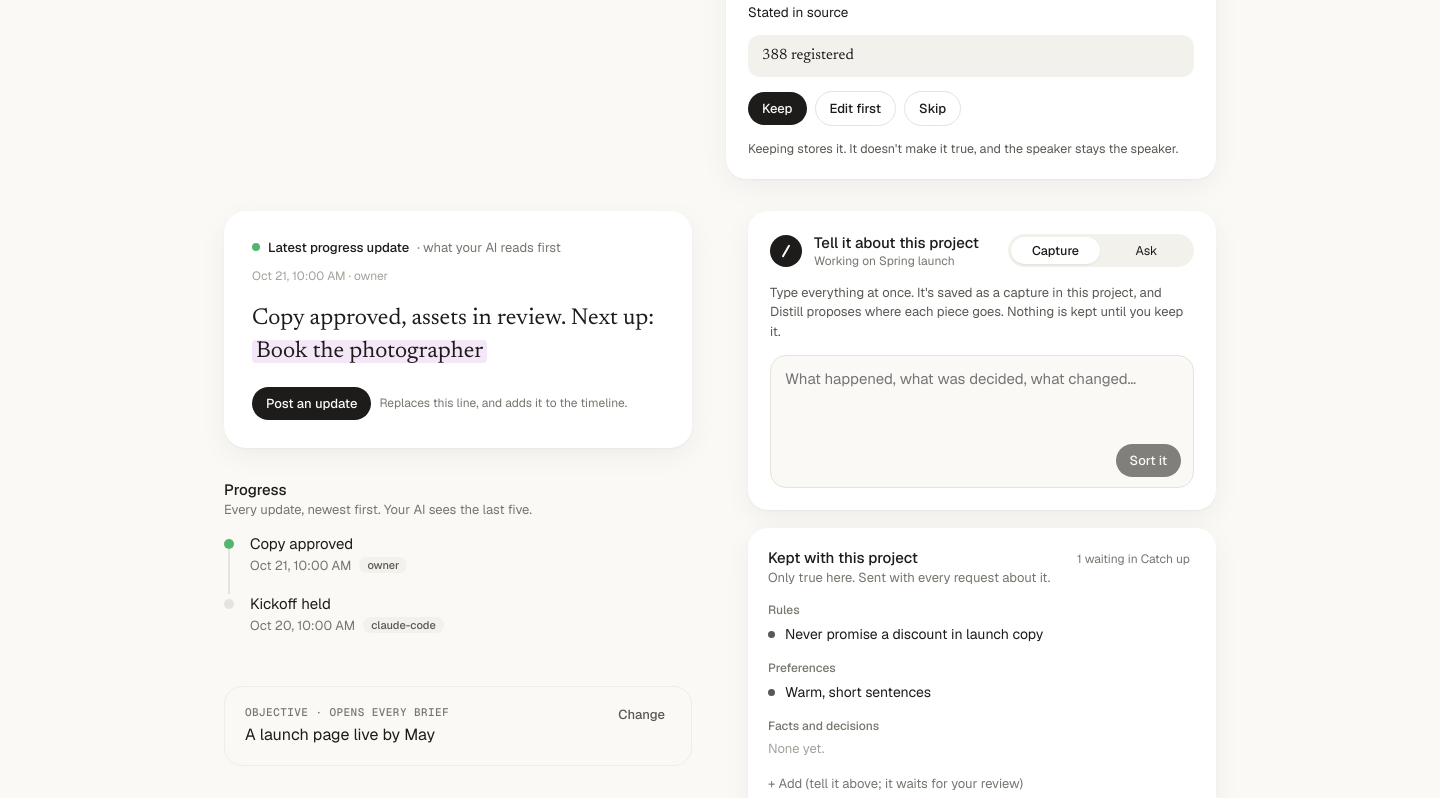
Scenario: Project · Context › saves what you tell it as a capture in the project and starts Distill
(page scrolled)
In the text box named "Tell it about this project": (983, 402) left=785, top=368, right=1181, bottom=436, type "The venue moved to Hall B."
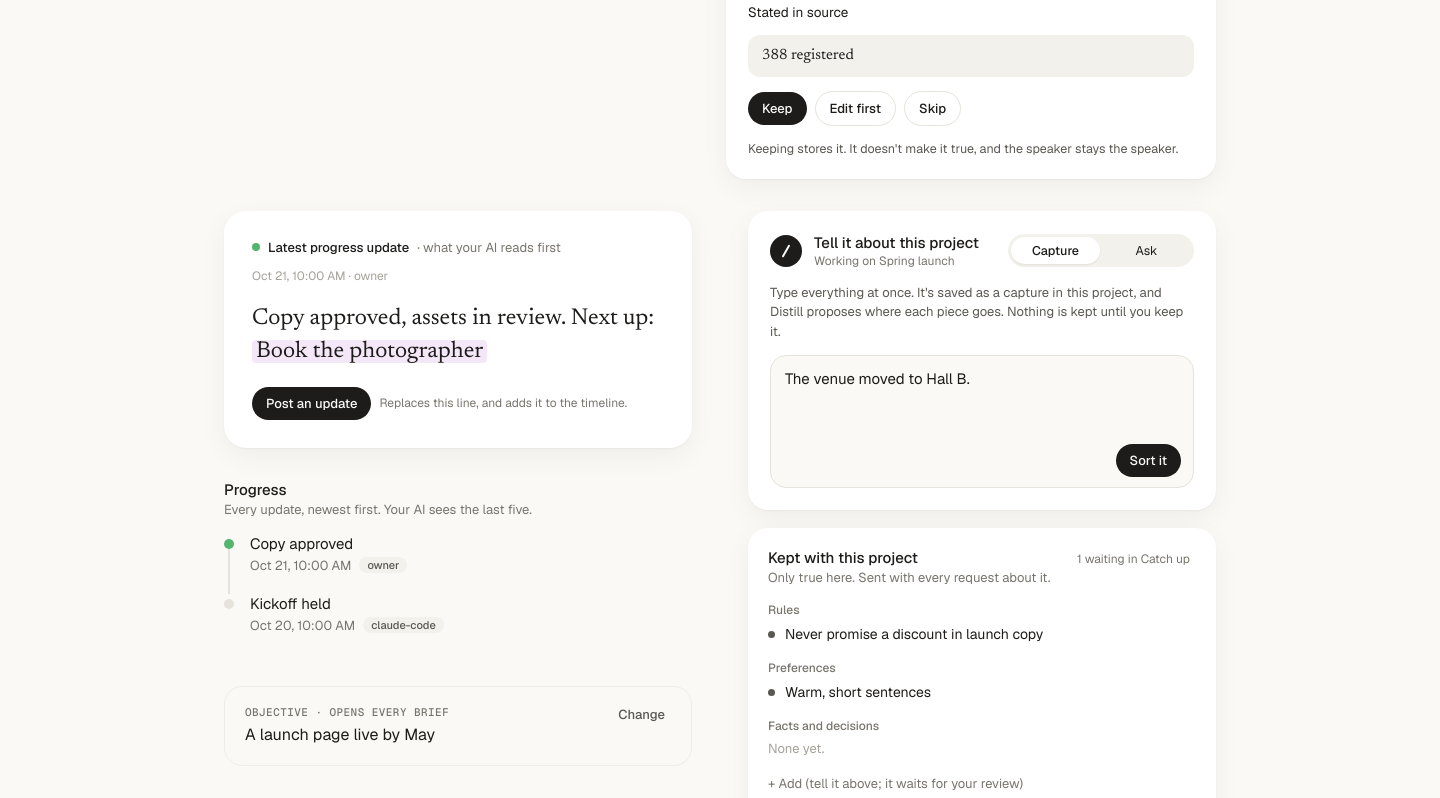
Click the button "Sort it": (1148, 460) left=1116, top=444, right=1181, bottom=477
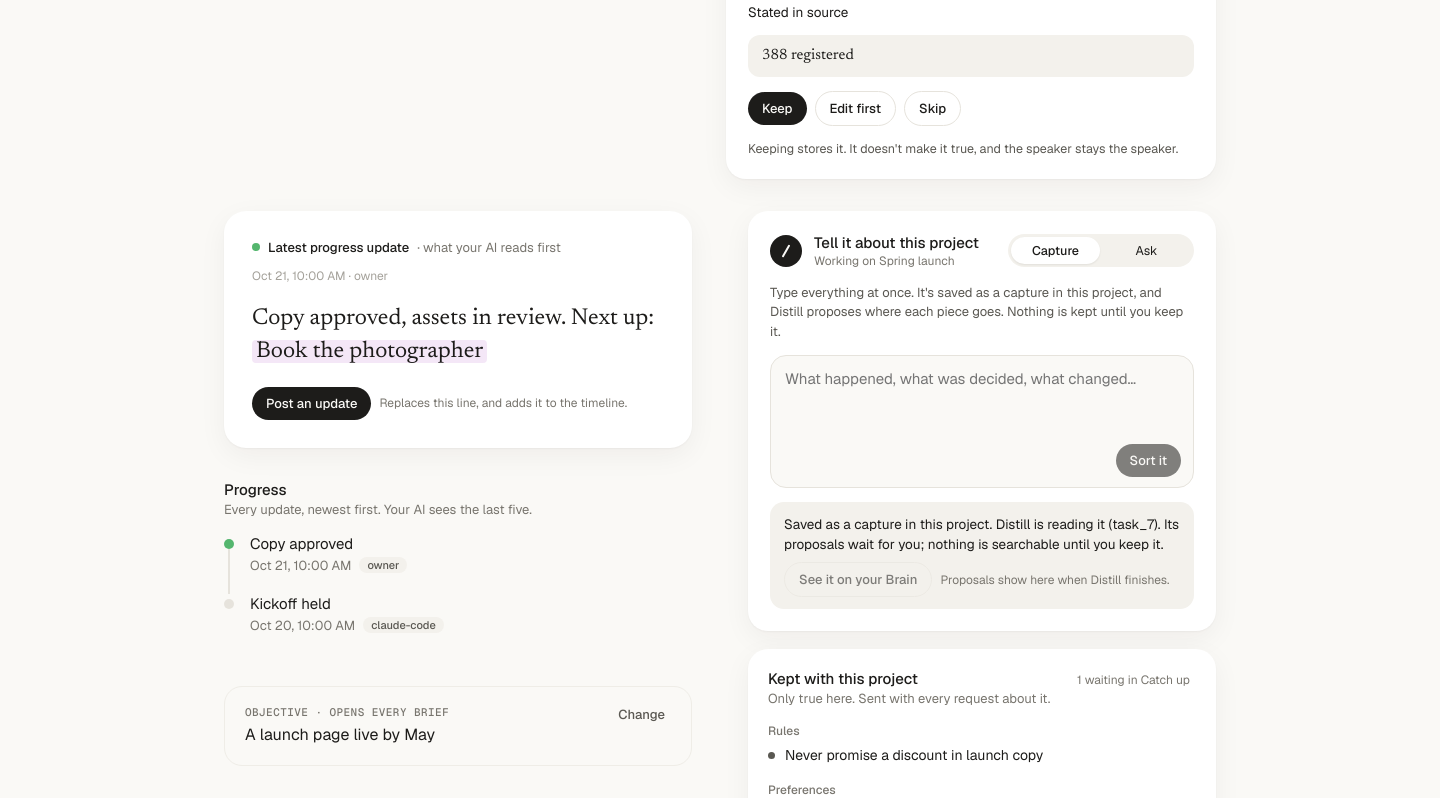
Now the text "Saved as a capture in this project" is shown, box left=784, top=515, right=1112, bottom=533
